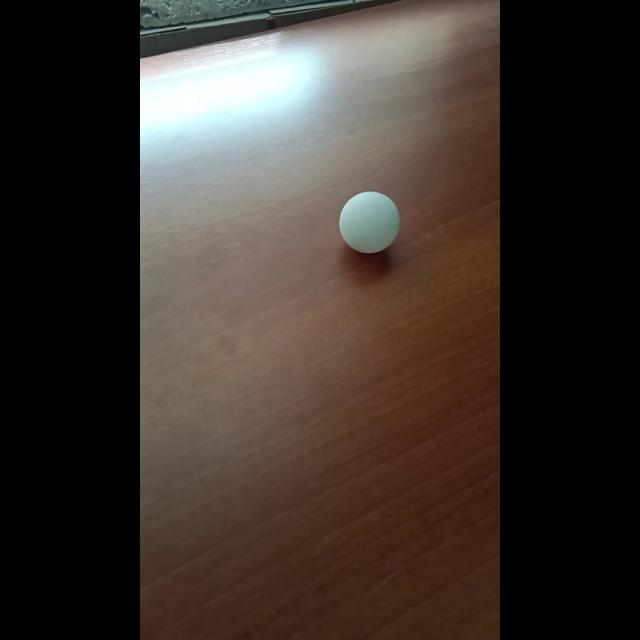white ball: (338, 190, 400, 254)
